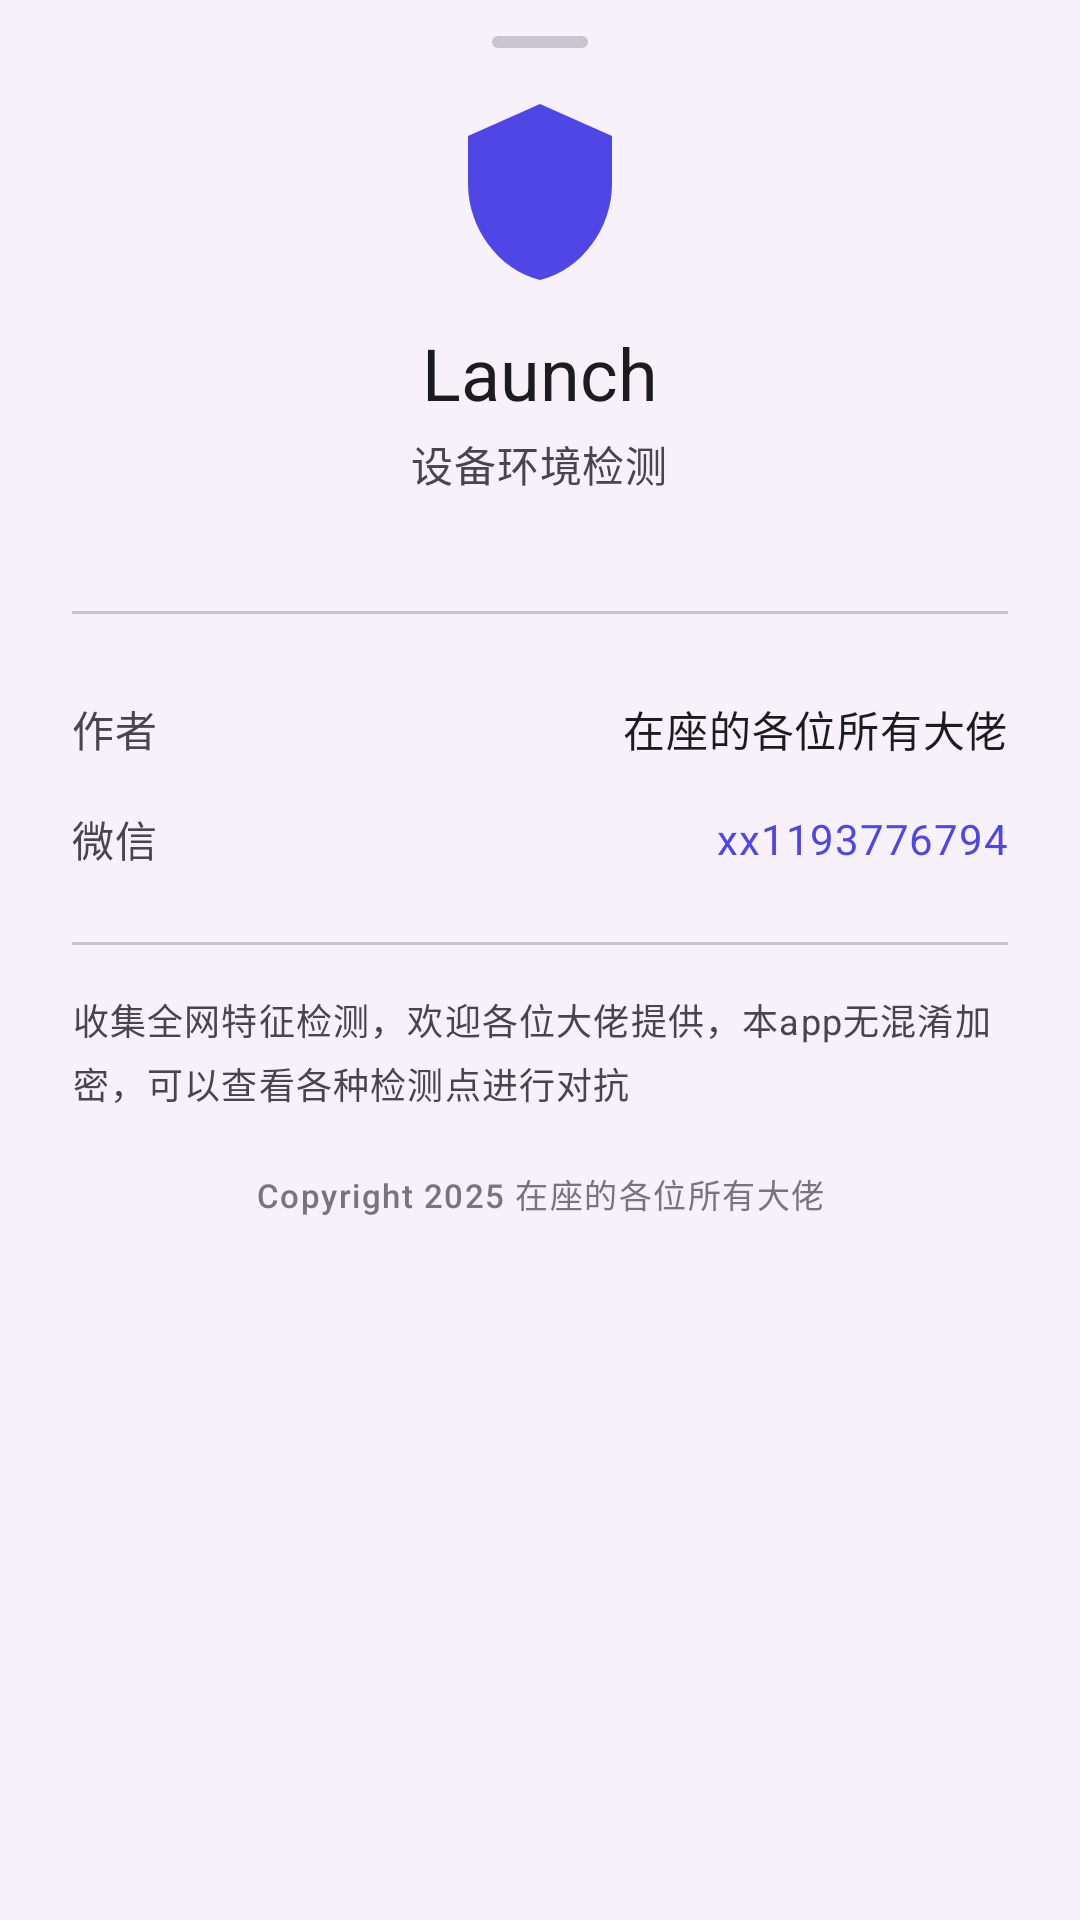

Named icons in this screenshot (1080px x 1920px) and their bounding boxes, [x1,y1,x2,y2]:
shield: [468,104,612,280]
